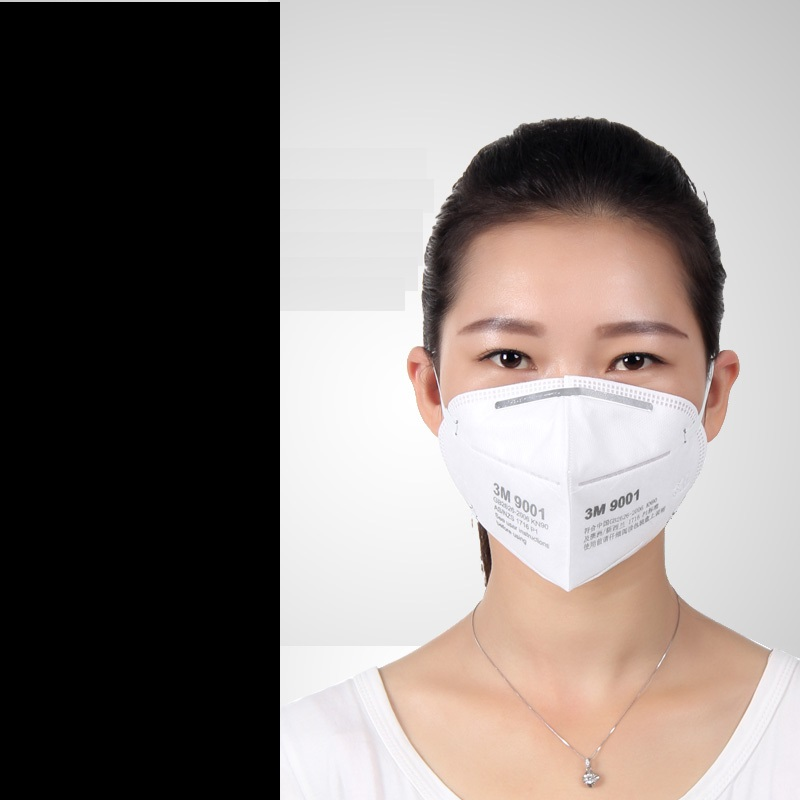face_mask: (443, 207, 709, 584)
